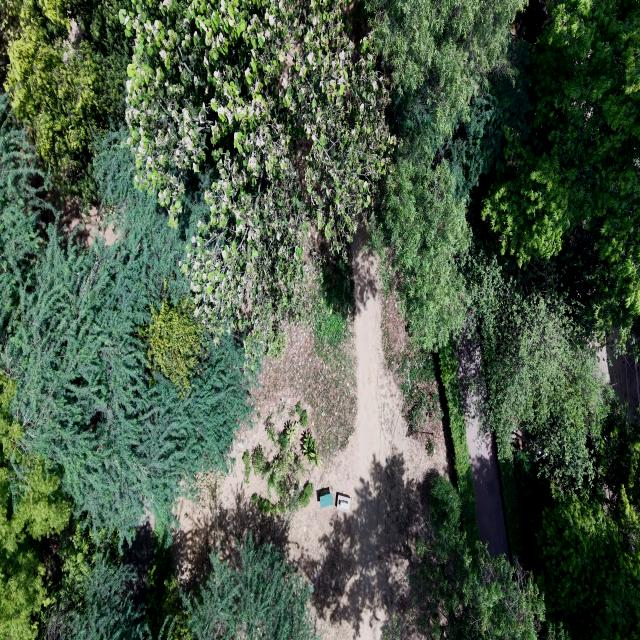DRY_AREA: (172, 235, 446, 639), (456, 318, 508, 556), (382, 292, 443, 444), (45, 189, 120, 246), (599, 344, 639, 421)
VEGETATION_TREE: (0, 0, 639, 639), (368, 1, 639, 531), (8, 2, 393, 358), (368, 1, 639, 495), (467, 1, 639, 636), (2, 133, 249, 537), (120, 1, 394, 362), (386, 408, 639, 639), (367, 0, 520, 349), (483, 0, 639, 339), (0, 373, 157, 639), (0, 522, 316, 639), (472, 253, 607, 485), (5, 0, 131, 206), (387, 476, 544, 639), (539, 411, 639, 639), (365, 0, 522, 141), (256, 254, 356, 460), (129, 532, 317, 639), (0, 369, 70, 639), (0, 371, 70, 639), (541, 492, 639, 639), (184, 533, 316, 639), (43, 523, 157, 639), (0, 92, 54, 332), (381, 282, 445, 455), (303, 254, 356, 459), (438, 341, 478, 541), (141, 296, 205, 392), (251, 420, 312, 516), (396, 341, 442, 454), (145, 538, 192, 639), (312, 256, 355, 361), (496, 434, 524, 561), (0, 0, 19, 84), (192, 468, 224, 511), (514, 448, 535, 495), (302, 429, 321, 466), (252, 493, 281, 514), (279, 420, 298, 448), (277, 422, 295, 451), (251, 444, 267, 475), (299, 480, 313, 506), (295, 401, 308, 428), (265, 416, 276, 444), (242, 450, 251, 482), (425, 433, 435, 456), (299, 409, 308, 428)
